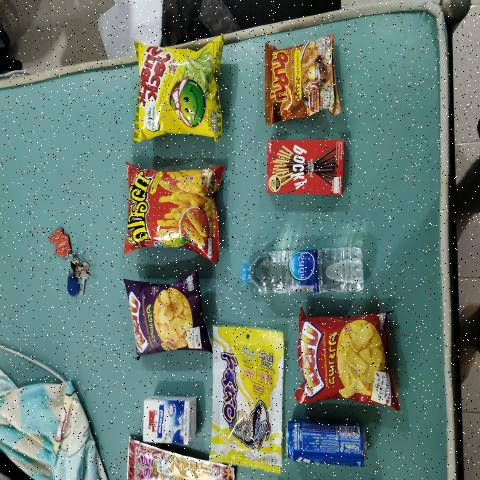crystal: (241, 244, 368, 298)
mama: (264, 38, 334, 118)
party_purple: (129, 286, 202, 352)
party_red: (300, 320, 386, 402)
pepsi_blue: (287, 420, 367, 463)
pokki: (268, 142, 343, 192)
snack_jack: (137, 44, 219, 137)
taro_yellow: (210, 332, 282, 456)
thai_denmark: (145, 398, 196, 443)
twisco: (130, 176, 218, 248)
